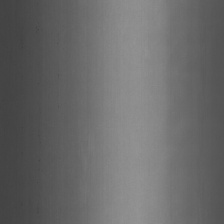inclusion: (34, 25, 42, 35)
